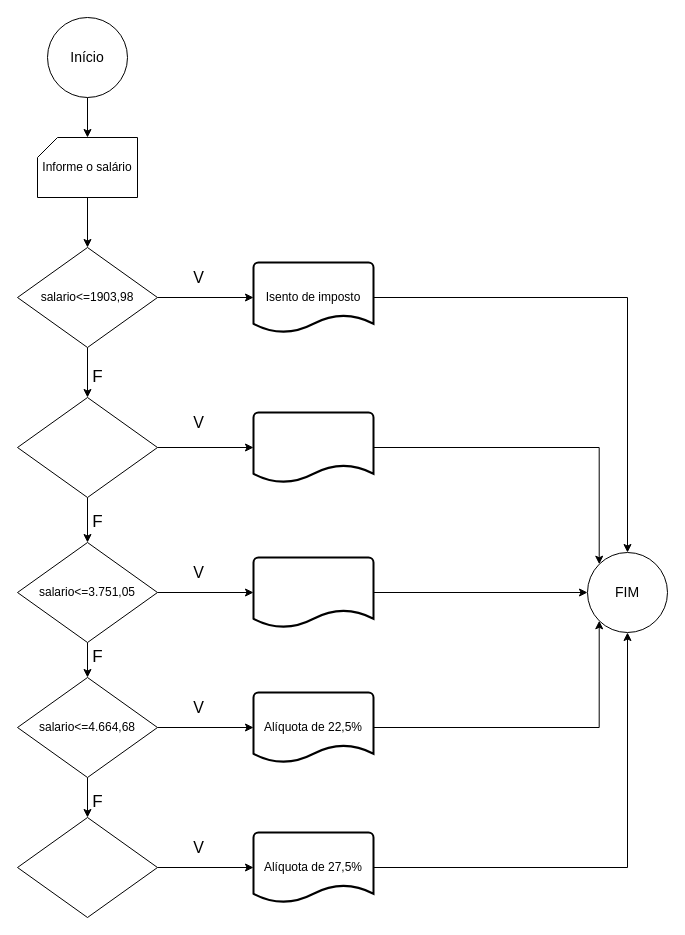
Image size: 685x935. Some labels were removed from this diagram. Each missing label, with the box of its shape:
Alíquota de 15%: (252, 556, 374, 628)
Alíquota de 7,5%: (252, 411, 374, 483)
salario<=2.826,65: (16, 396, 158, 498)
salario>4.664,68: (16, 816, 158, 918)
